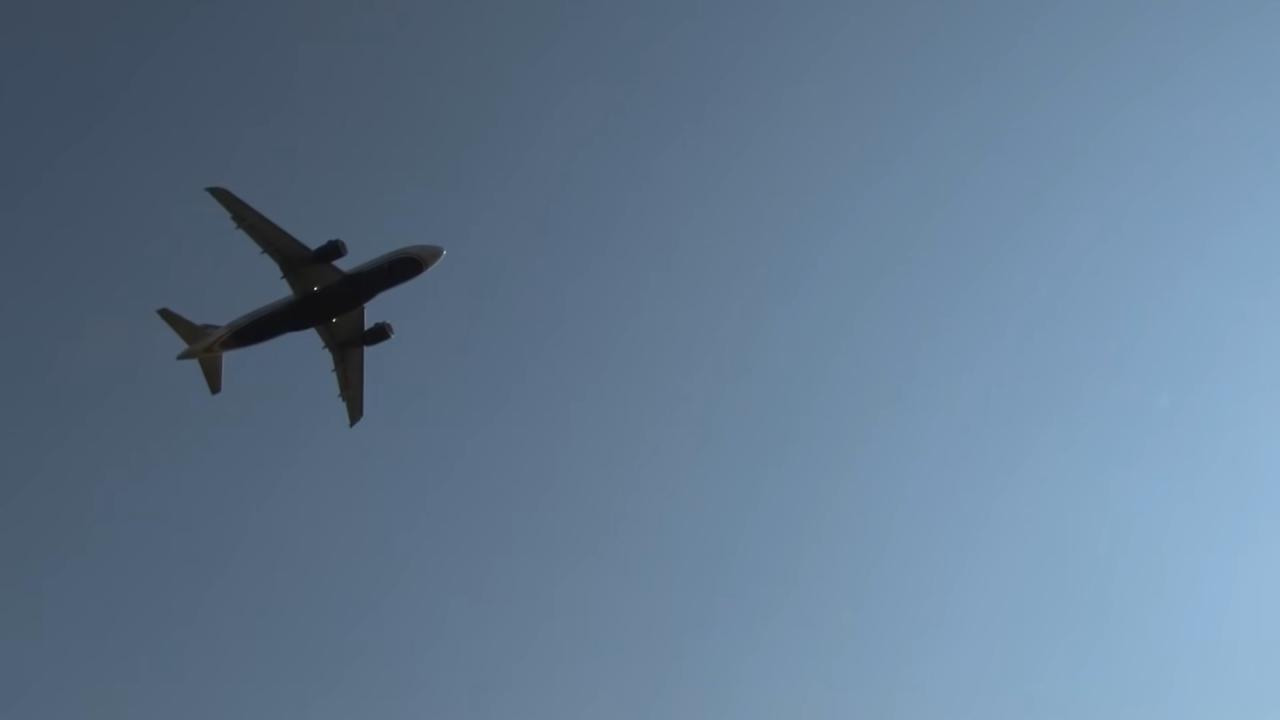Airplane: (136, 170, 457, 443)
